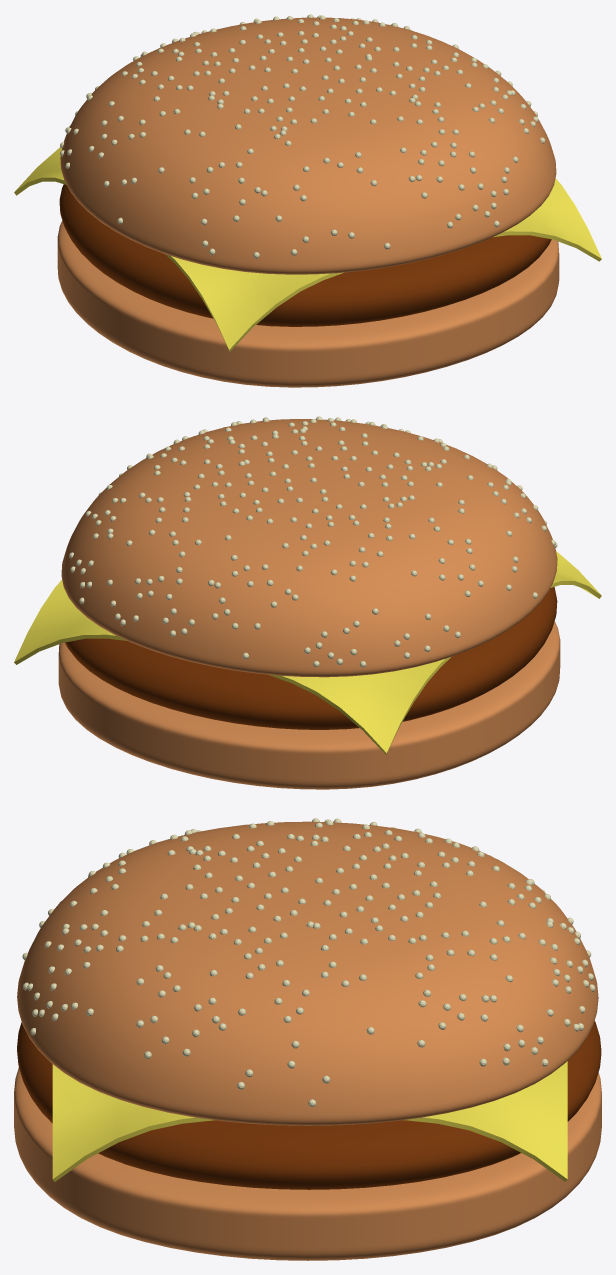
File: hamburger.glb
The picture shows the model from 3 angles, top to bottom: view 1: azimuth 30°, elevation 25°; view 2: azimuth 150°, elevation 25°; view 3: azimuth 270°, elevation 25°; orthographic projection. The views are drawn at different scales.
Visible parts, largest first — view 1: Cube.002, Cube, Cube.001, Plane; view 2: Cube.002, Cube, Cube.001, Plane; view 3: Cube.002, Cube, Cube.001, Plane.
Part boxes in pixels (x1=…): Cube.002: x1=60, y1=17, x2=556, y2=274; Cube: x1=57, y1=221, x2=559, y2=387; Cube.001: x1=59, y1=184, x2=551, y2=326; Plane: x1=14, y1=147, x2=601, y2=351; Cube.002: x1=61, y1=419, x2=557, y2=677; Cube: x1=58, y1=621, x2=560, y2=789; Cube.001: x1=65, y1=587, x2=557, y2=729; Plane: x1=14, y1=551, x2=601, y2=754; Cube.002: x1=17, y1=821, x2=598, y2=1125; Cube: x1=14, y1=1067, x2=601, y2=1260; Cube.001: x1=17, y1=1021, x2=601, y2=1189; Plane: x1=52, y1=1061, x2=567, y2=1181.
Bounding box in the file's own units: 9.27 × 4.81 × 9.27.
